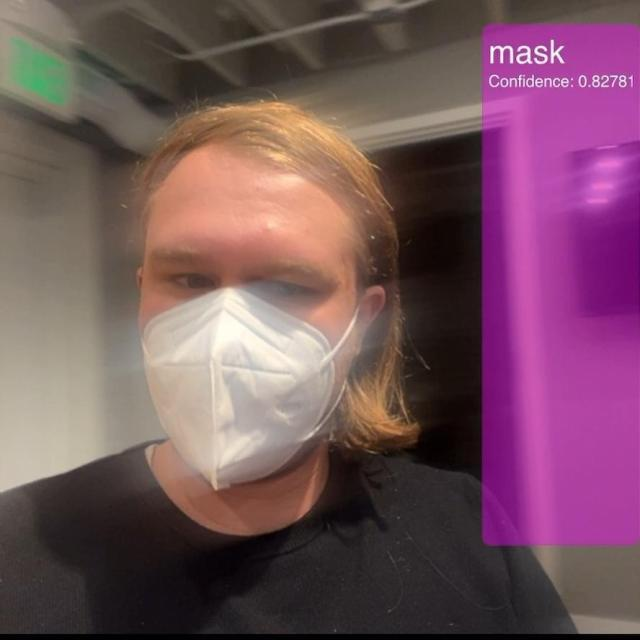no hat: (104, 105, 426, 550)
